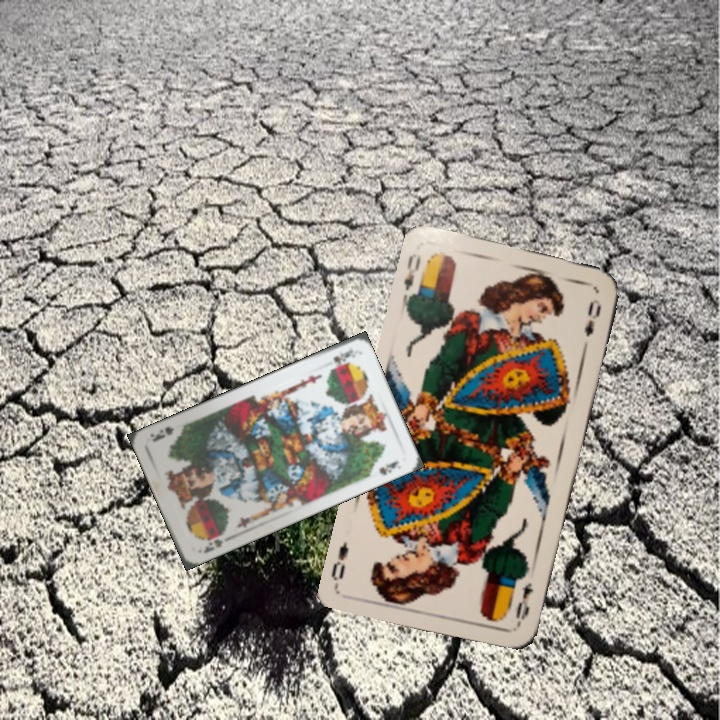EO: (399, 249, 431, 304), (511, 578, 537, 630)
SK: (329, 344, 358, 367), (199, 535, 226, 556)
